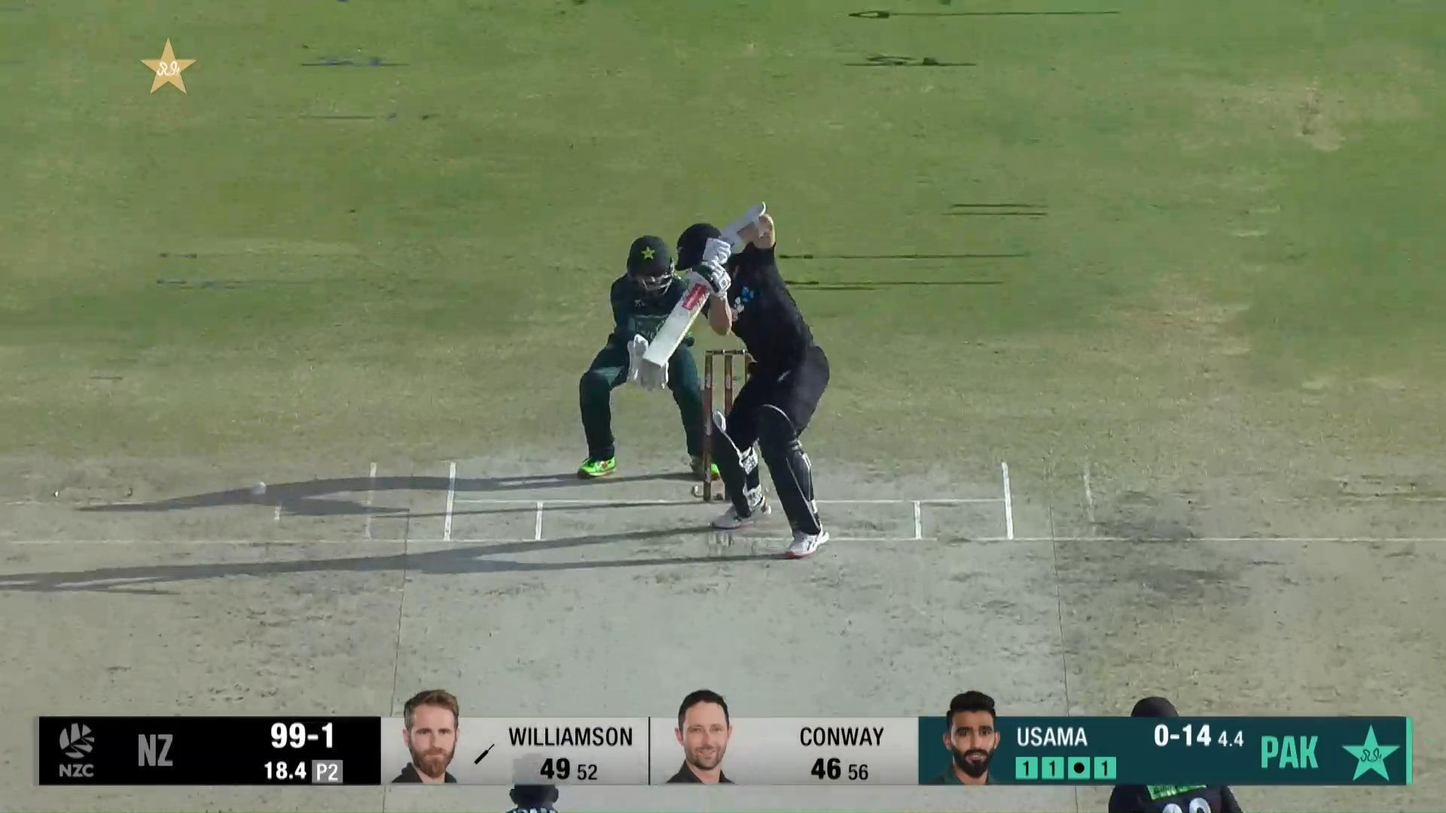BM 1: (642, 201, 830, 558)
BO: (499, 750, 565, 813)
